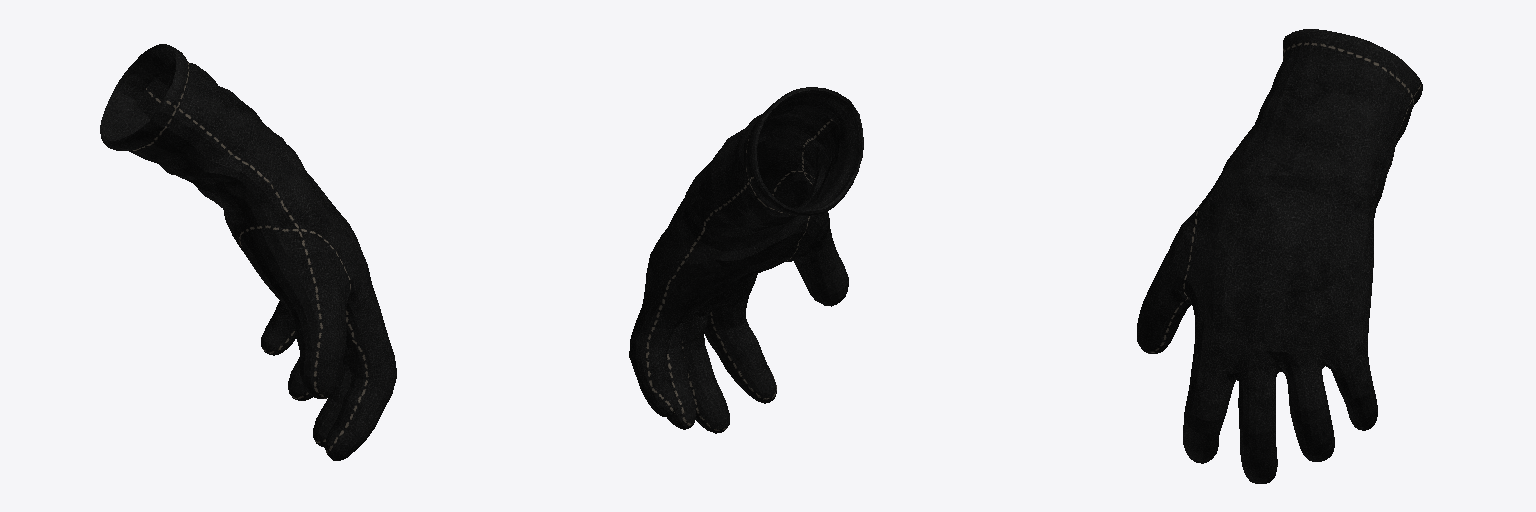
The picture shows the model from 3 angles: view 1: azimuth 30°, elevation 25°; view 2: azimuth 150°, elevation 25°; view 3: azimuth 270°, elevation 25°; orthographic projection.
Parts seen in each view (by area): view 1: glove_lp; view 2: glove_lp; view 3: glove_lp.
Boxes of the visible parts, box(x1,y1,x2,y2) form: glove_lp: box(100, 44, 396, 460); glove_lp: box(629, 87, 863, 433); glove_lp: box(1137, 29, 1422, 483).
Bounding box in the file's own units: 0.1489 × 0.2514 × 0.1649.
1 materials, 1 textured.